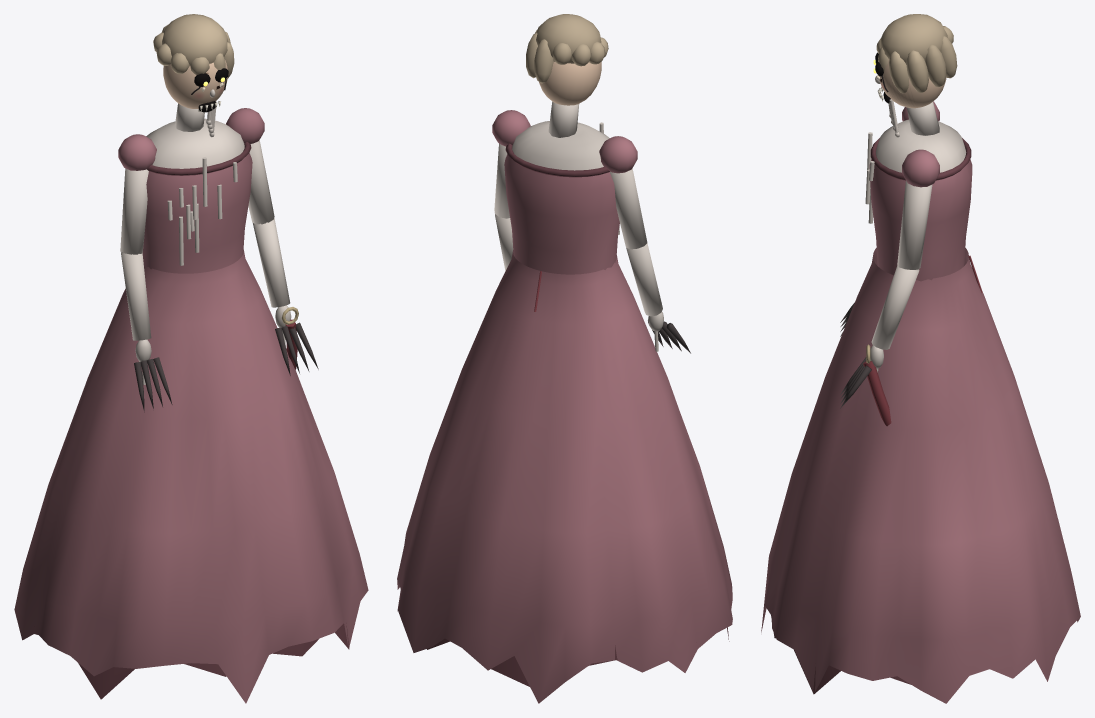
Rendered from the_exhibit.glb.
3 views of the same model, side by side, from view 1: azimuth 30°, elevation 25°; view 2: azimuth 150°, elevation 25°; view 3: azimuth 270°, elevation 25° (orthographic).
Parts seen in each view (by area): view 1: Exhibit_Root_RoseSatin, Exhibit_Root_FleshWax, ArmA_FleshWax, Head_WaxCurls, ArmB_FleshWax, Exhibit_Root_RoseShadow, Face, PuffArmA, ArmA_HClaw, PuffArmB, ArmB_HClaw, Head_FleshWax; view 2: Exhibit_Root_RoseSatin, Head_WaxCurls, ArmA_FleshWax, Exhibit_Root_FleshWax, Face, Exhibit_Root_RoseShadow, ArmB_FleshWax, PuffArmA, PuffArmB, Head_FleshWax; view 3: Exhibit_Root_RoseSatin, Head_WaxCurls, ArmB_FleshWax, Exhibit_Root_FleshWax, Face, PuffArmB, Exhibit_Root_RoseShadow, Head_FleshWax, Rope, ArmB_HClaw.
Part boxes in pixels (x1,y1,x2,y2): Exhibit_Root_RoseSatin: (14,153,368,703); Exhibit_Root_FleshWax: (146,118,244,265); ArmA_FleshWax: (120,168,151,384); Head_WaxCurls: (153,14,234,78); ArmB_FleshWax: (248,140,291,347); Exhibit_Root_RoseShadow: (78,142,349,699); Face: (163,60,227,108); PuffArmA: (118,134,156,170); ArmA_HClaw: (134,357,172,412); PuffArmB: (226,108,264,143); ArmB_HClaw: (275,322,318,375); Head_FleshWax: (175,89,216,137); Exhibit_Root_RoseSatin: (397,154,732,703); Head_WaxCurls: (526,14,608,83); ArmA_FleshWax: (610,168,663,351); Exhibit_Root_FleshWax: (512,121,619,234); Face: (539,62,601,105); Exhibit_Root_RoseShadow: (427,143,729,686); ArmB_FleshWax: (494,143,513,270); PuffArmA: (599,136,637,173); PuffArmB: (492,110,530,146); Head_FleshWax: (548,101,579,137); Exhibit_Root_RoseSatin: (761,159,1080,703); Head_WaxCurls: (876,14,957,93); ArmB_FleshWax: (870,181,932,372); Exhibit_Root_FleshWax: (865,119,966,223); Face: (878,59,946,108); PuffArmB: (902,149,939,187); Exhibit_Root_RoseShadow: (771,138,971,694); Head_FleshWax: (875,77,939,137); Rope: (863,361,891,426); ArmB_HClaw: (840,357,871,408).
Size of the model in its own units: 0.8987 by 1.72 by 0.7909.
15 materials, 1 textured.
